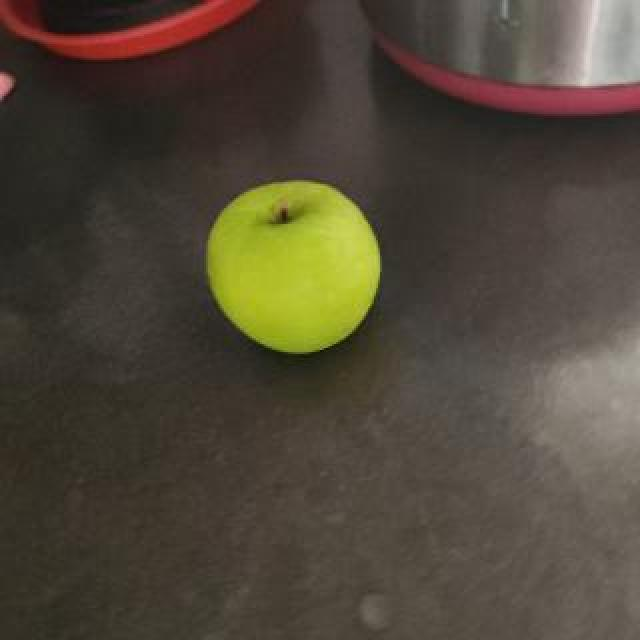Fresh Apple: (188, 170, 392, 367)
